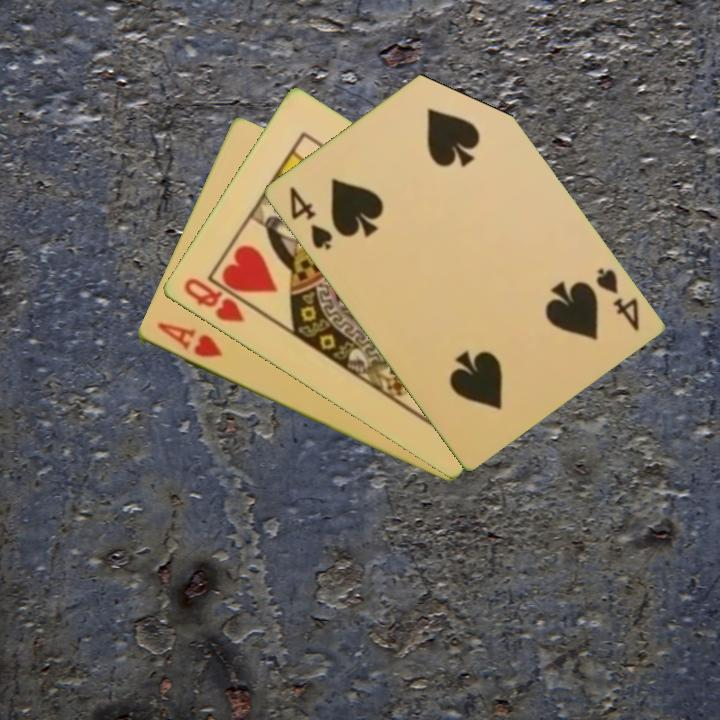4s: (591, 264, 642, 334), (285, 183, 335, 253)
Ah: (152, 319, 225, 361)
Qh: (179, 274, 247, 326)
